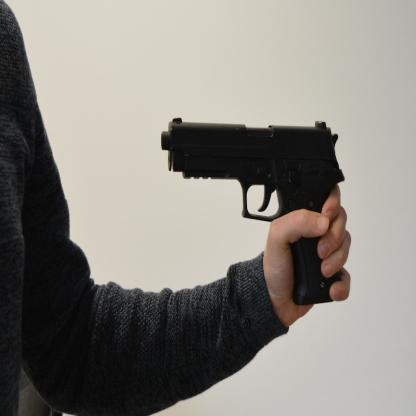gun: (160, 115, 347, 307)
